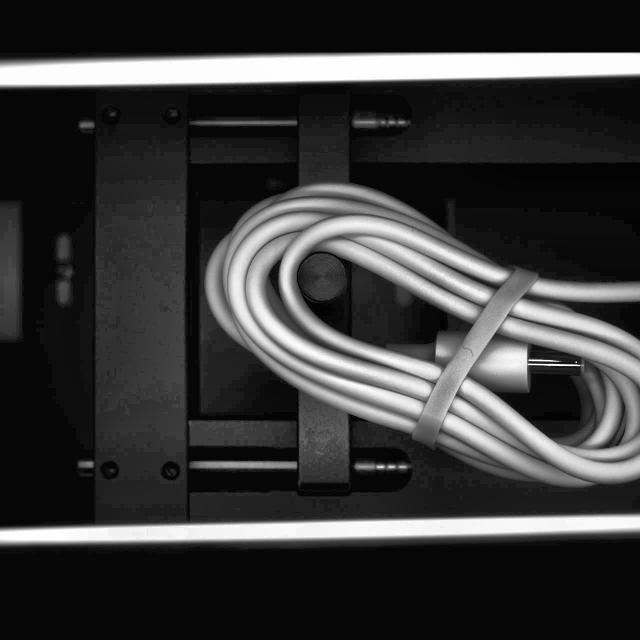Cable: (201, 180, 640, 494)
